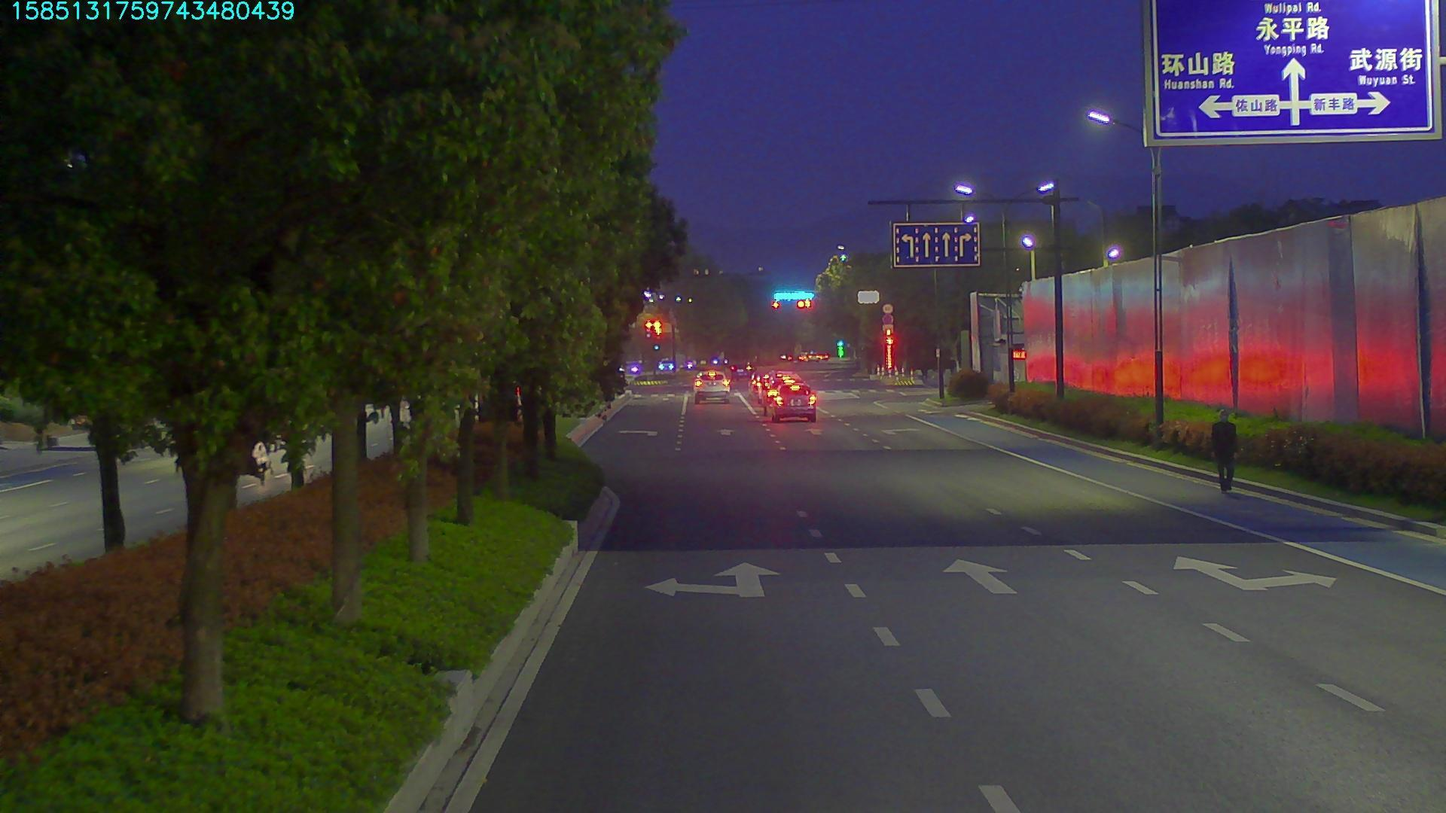red: (795, 299, 815, 306), (769, 297, 780, 309)
wait_on: (770, 288, 817, 300)
